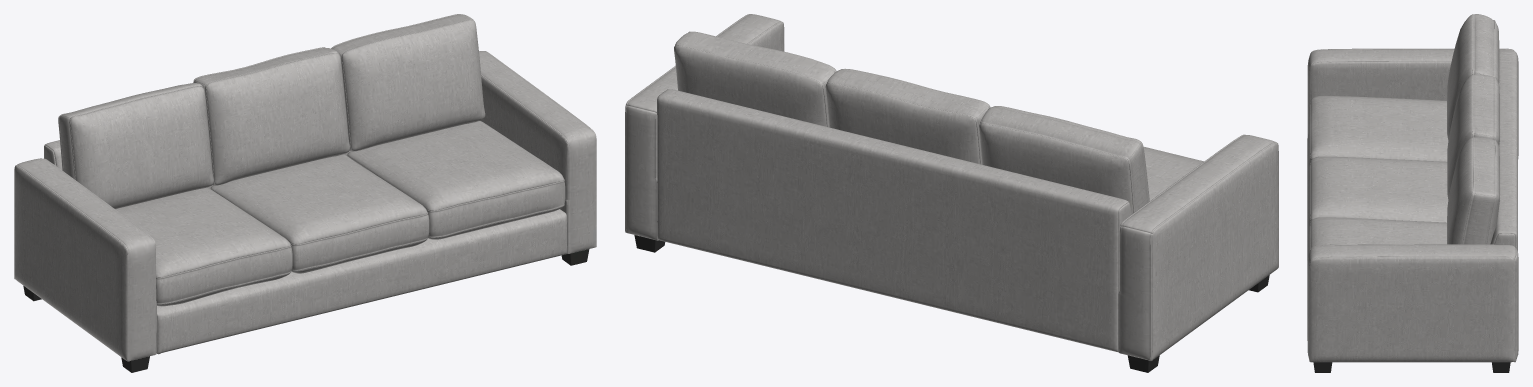
The model's file is B07VNL9S77-mobile.glb.
3 views of the same model, side by side, from view 1: azimuth 30°, elevation 25°; view 2: azimuth 150°, elevation 25°; view 3: azimuth 270°, elevation 25° (orthographic). The views are drawn at different scales.
Parts seen in each view (by area): view 1: B07VNL9S77; view 2: B07VNL9S77; view 3: B07VNL9S77.
Boxes of the visible parts, x1,y1,x2,y2 form: B07VNL9S77: [14, 14, 596, 372]; B07VNL9S77: [625, 14, 1278, 372]; B07VNL9S77: [1307, 14, 1518, 372].
Size of the model in its own units: 2.12 by 0.8 by 0.8999.
1 material, 1 textured.
